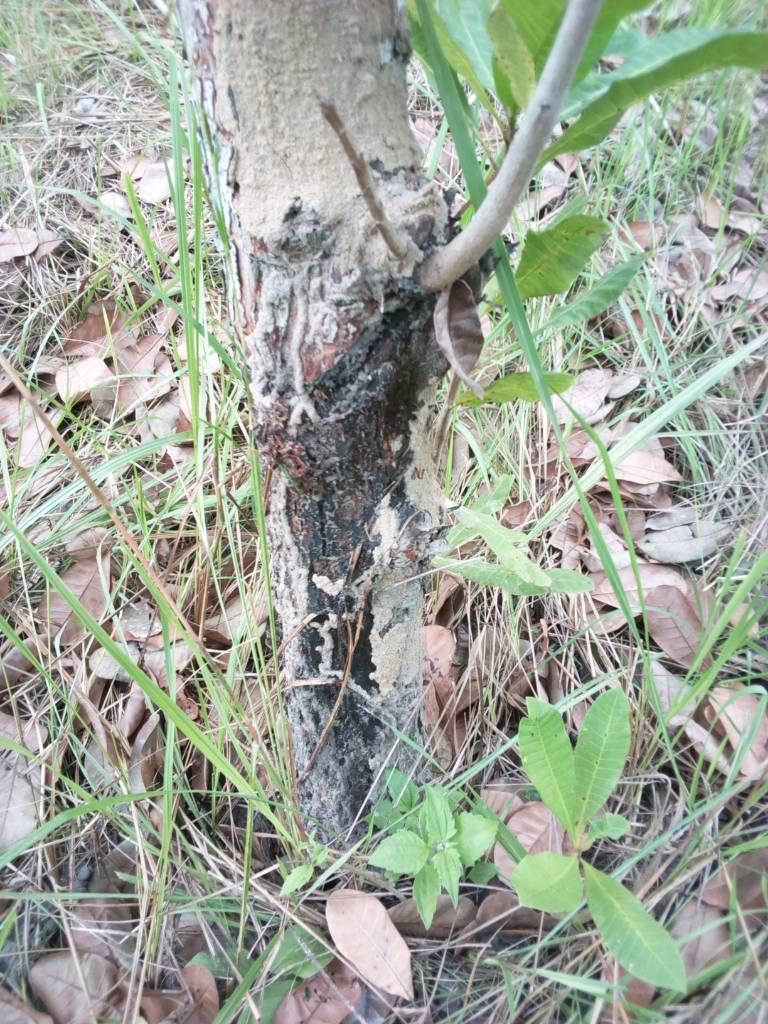Termites: (216, 1, 413, 250)
